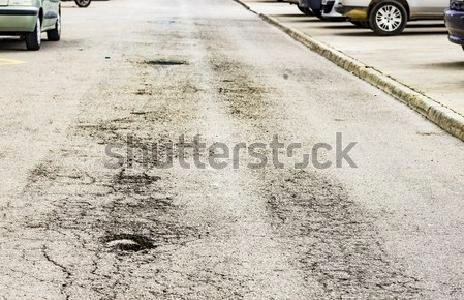pothole: (97, 230, 154, 253), (142, 54, 190, 65)
